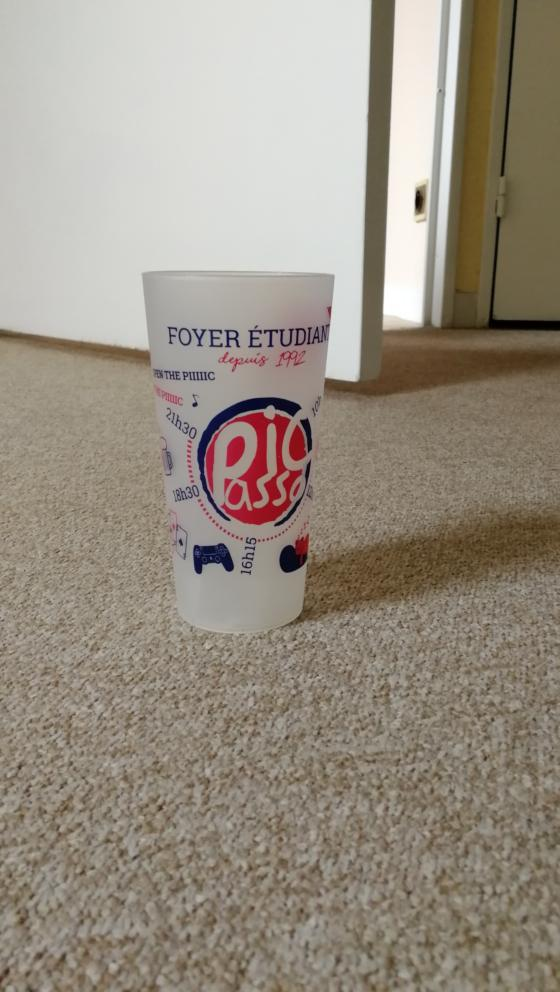ecocup: (137, 266, 340, 640)
